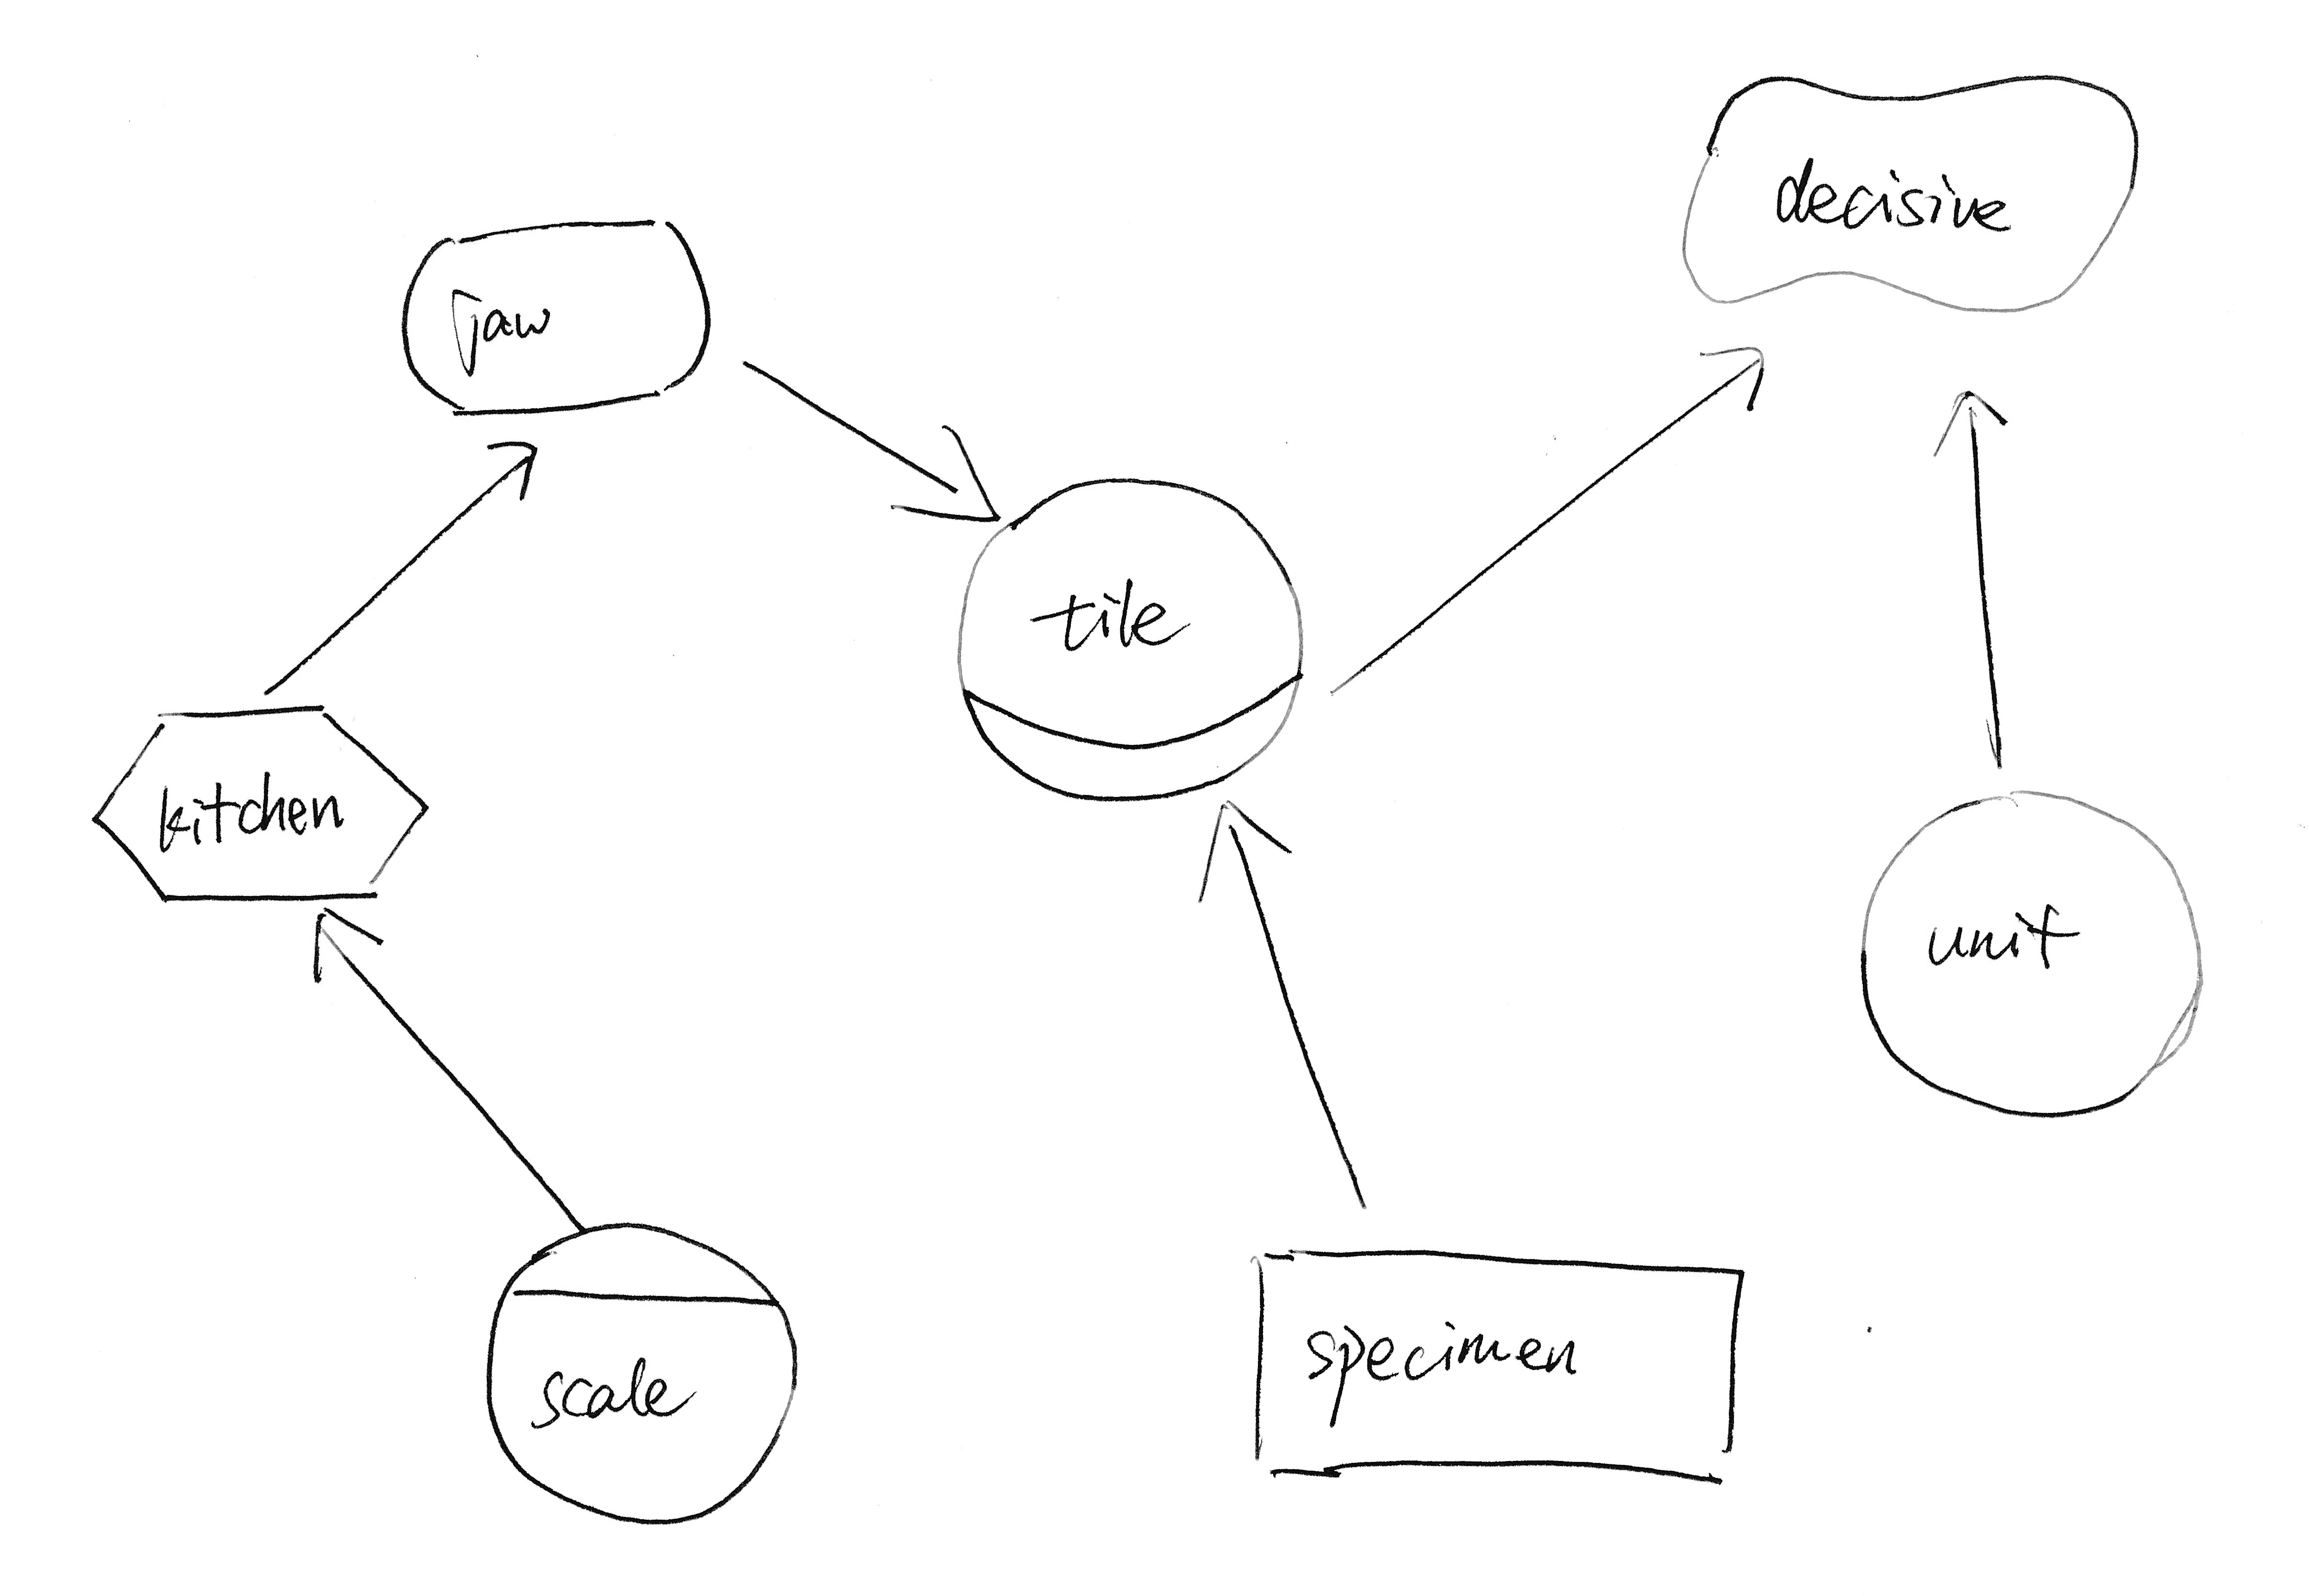actor: (1848, 775, 2228, 1129)
agent: (463, 1200, 832, 1540)
arrow: (884, 410, 1005, 549), (1176, 789, 1297, 919), (1672, 321, 1783, 438), (281, 900, 395, 998), (1925, 370, 2023, 482), (470, 430, 549, 514)
goal: (382, 188, 721, 442)
quality: (1672, 56, 2156, 342)
resource: (1232, 1219, 1779, 1501)
role: (937, 470, 1321, 817)
task: (72, 688, 435, 921)
